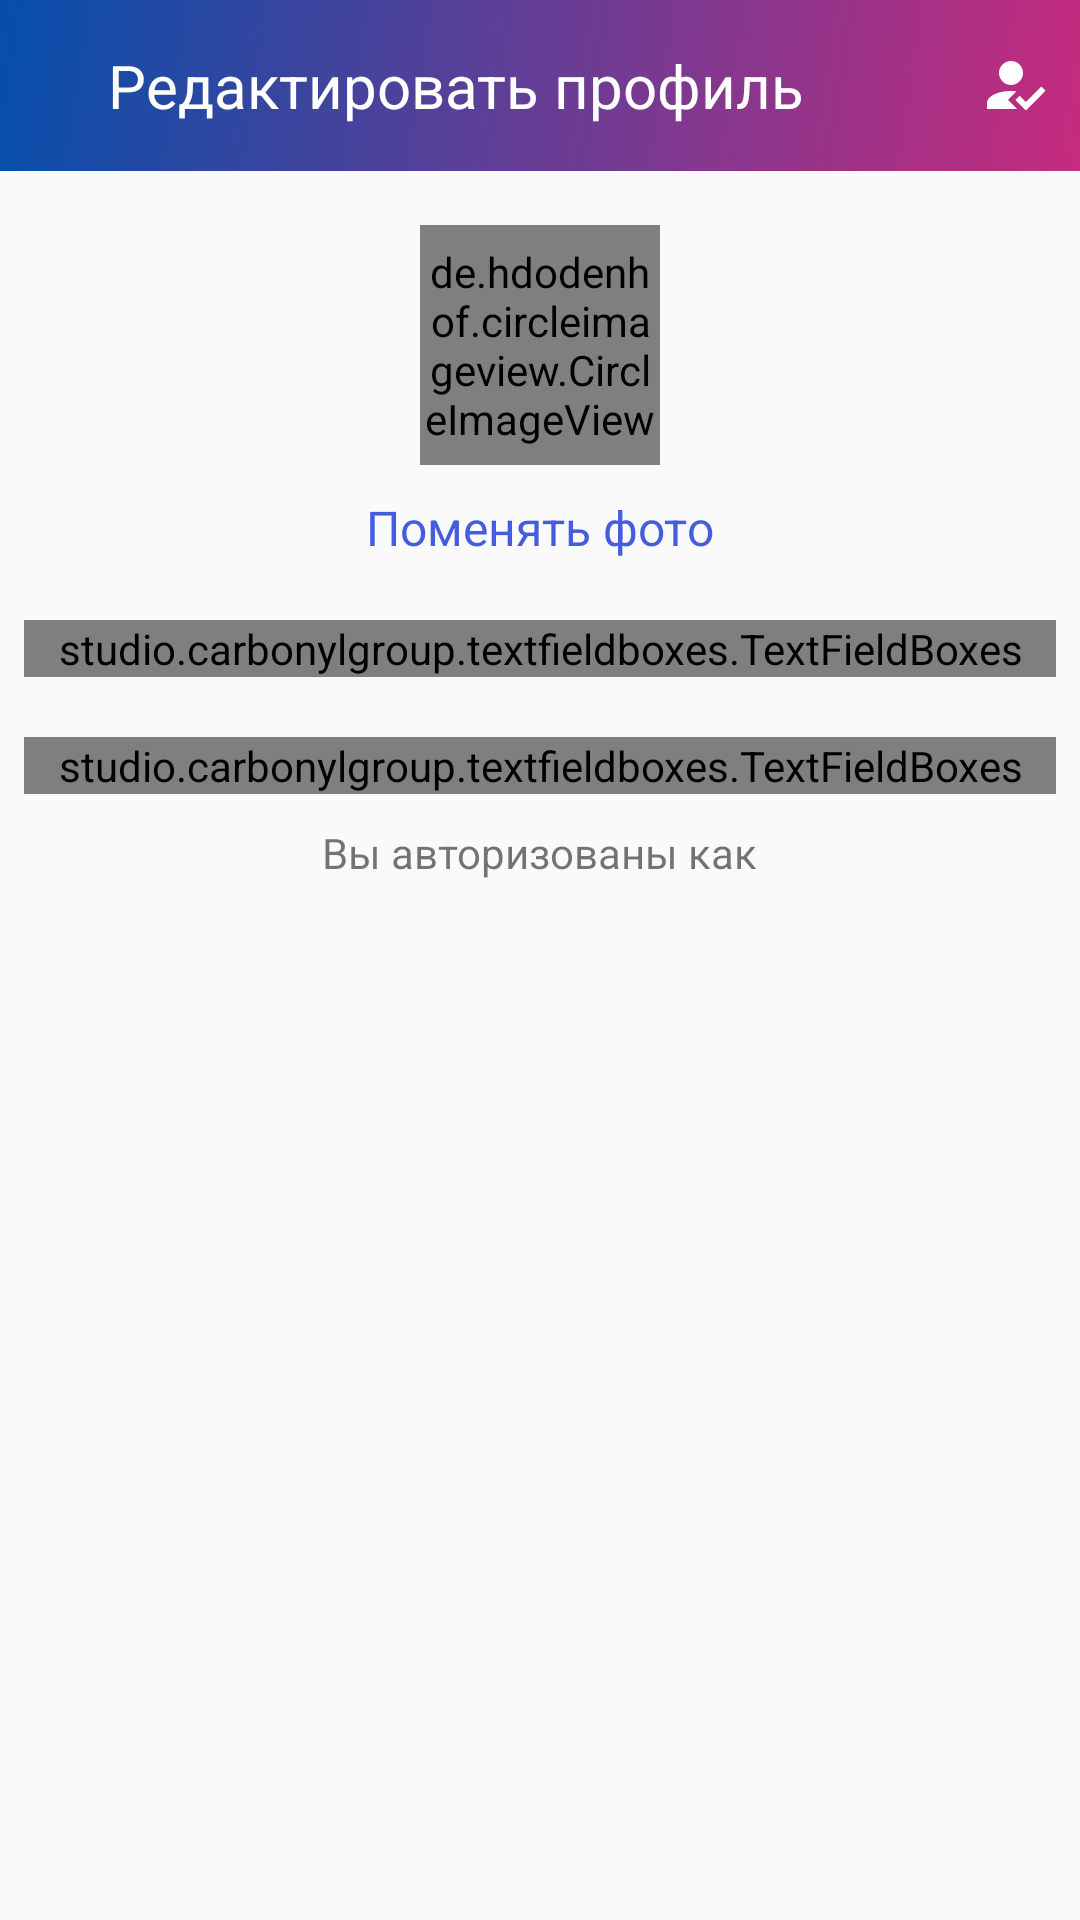

Icon click points for this 1080px x 1920px phone screenshot, format (x,y):
account check: (1016,86)
